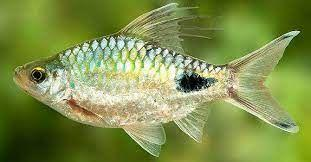Black Spotted Barb: (13, 3, 302, 158)
